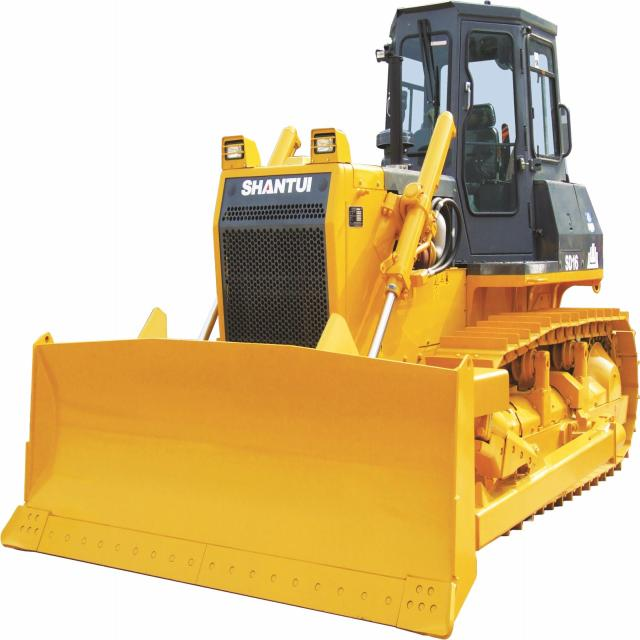Bulldozer: (12, 5, 640, 640)
